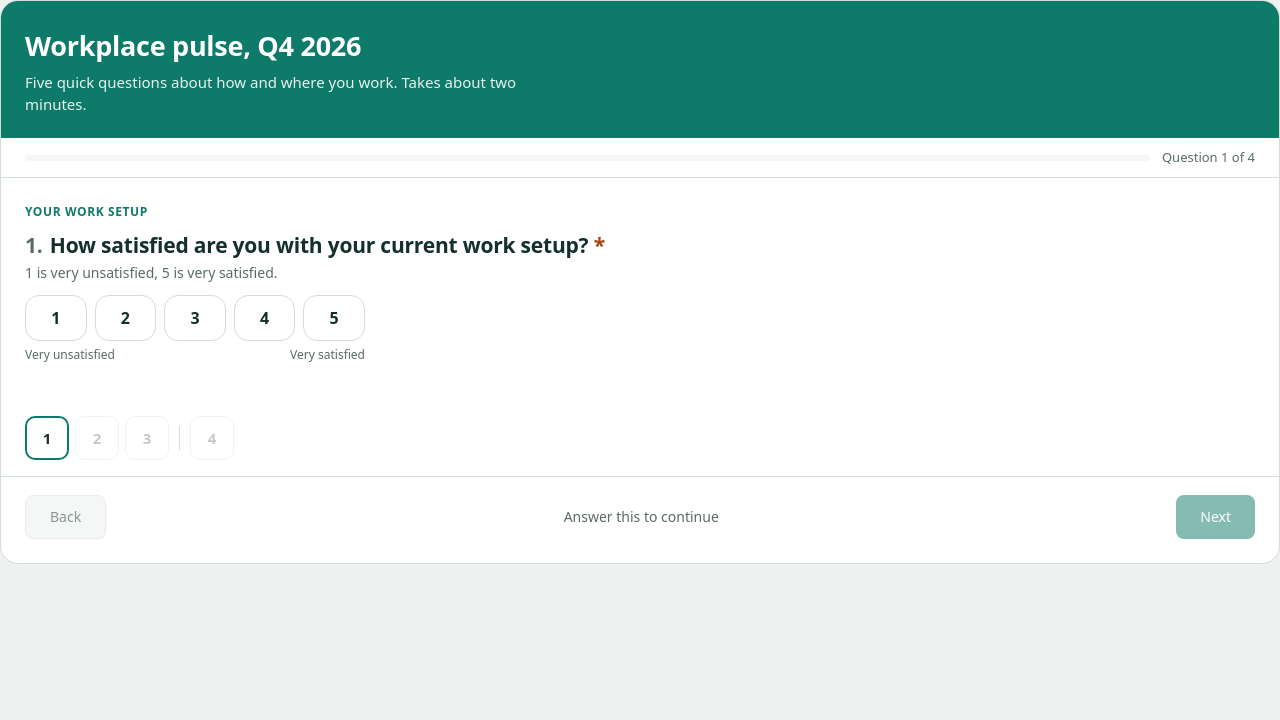
Test case: one question at a time › locks the navigator after the first unanswered required question
The width and height of the screenshot is (1280, 720).
Check: the button named "Question 2" is disabled, box [75,416,119,460]
Click the radio button labelled "3" at (195, 318), box [164,294,226,340]
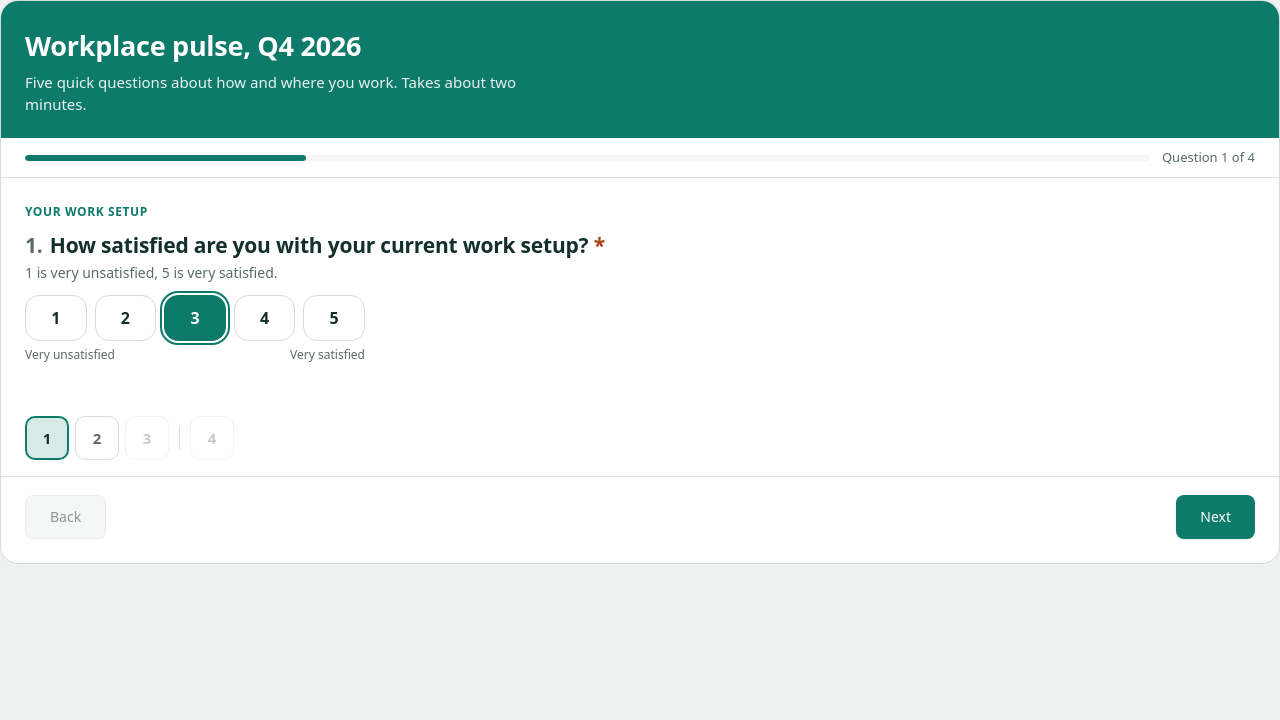
Check: the button named "Question 3" is disabled, box [125,416,169,460]
Check: the button named "Question 1, answered" is shown, box [25,416,69,460]
Check: the button named "Question 2" is enabled
Click the button named "Question 2" at (97, 438), box [75,416,119,460]
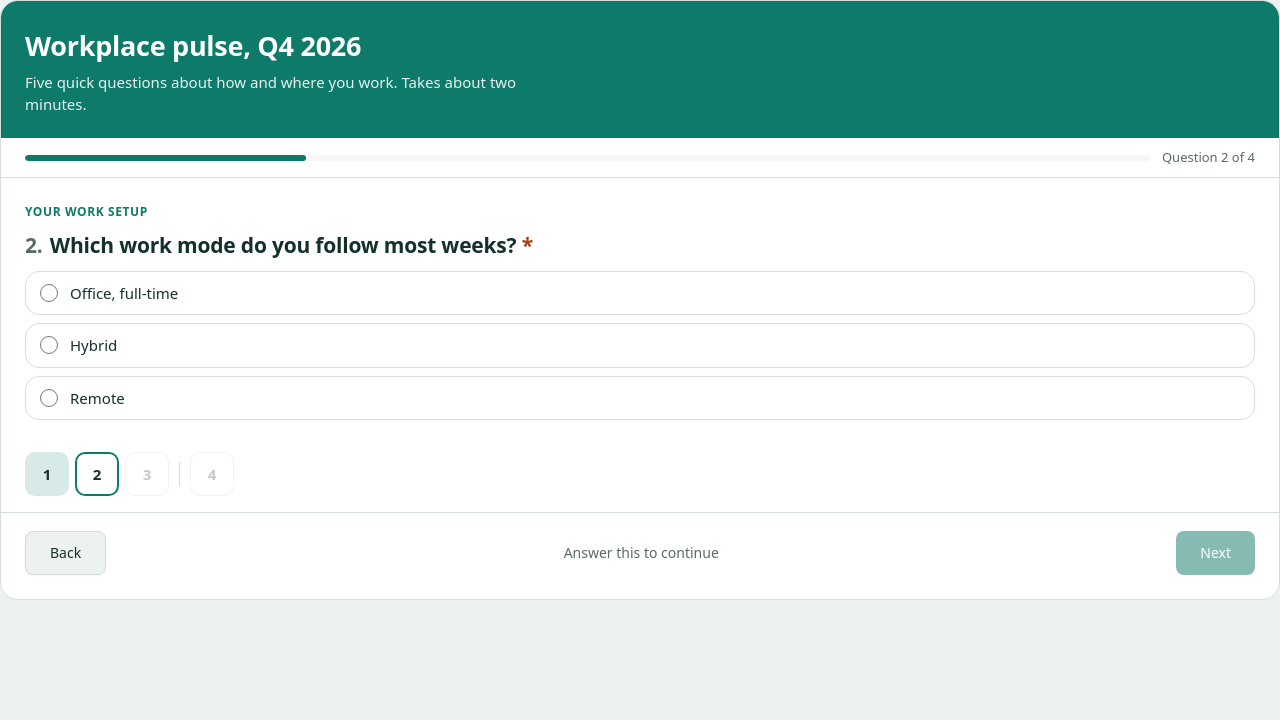
Check: the text "Question 2 of 4" is shown, box [1162,148,1255,167]
